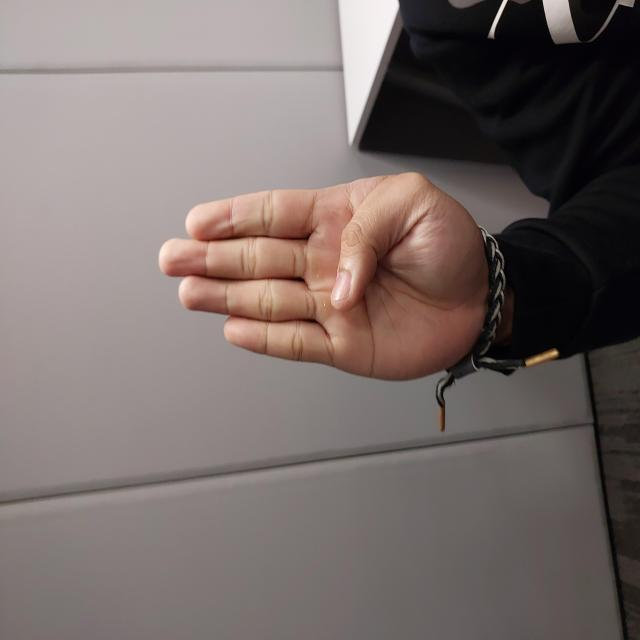B: (257, 156, 471, 488)
